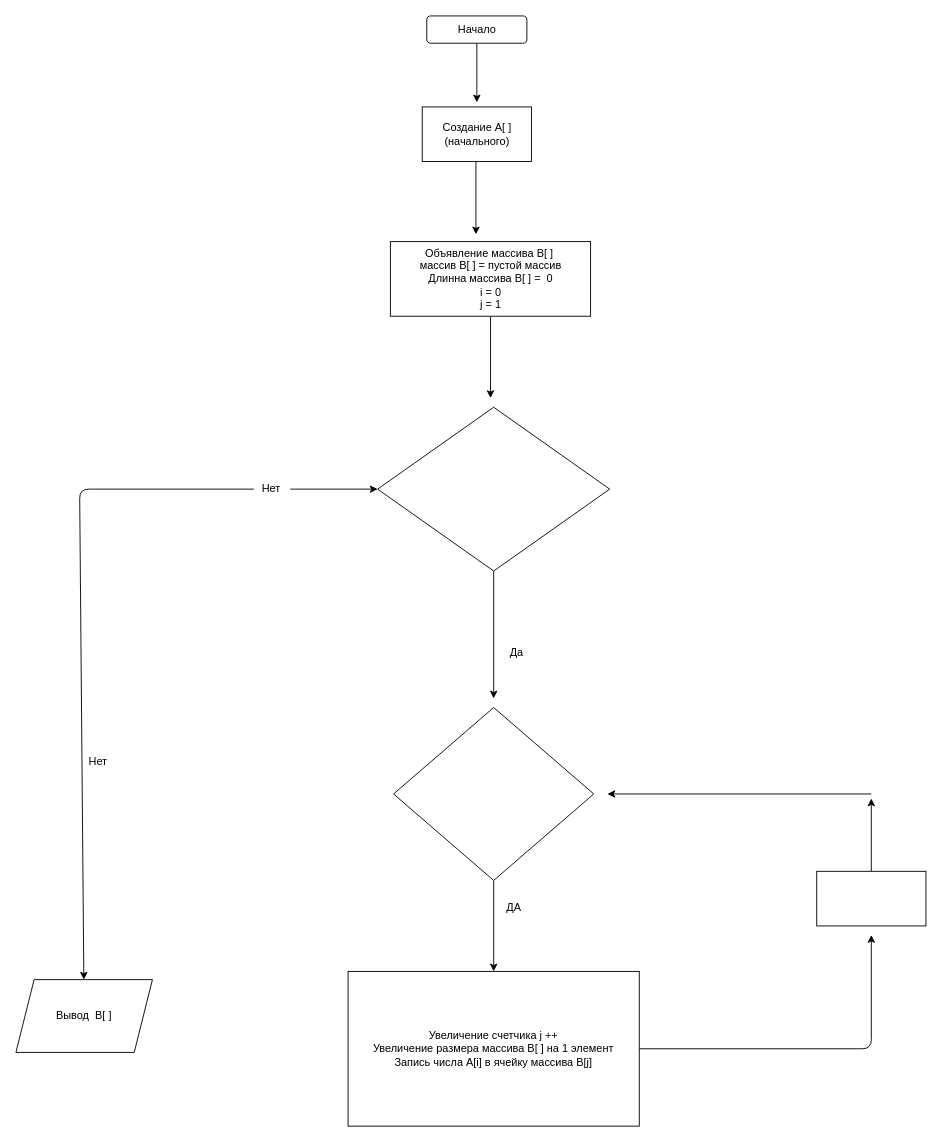
Some shapes in this 942 by 1142 pixel diagram are drawn without their labels. The shapes that lost their labels are listed below. From the top down, each one's centre as x and y in pixels, then its label:
the point at 493,488: i < размера массива A
the point at 493,793: число массива A > B
the point at 871,898: i ++
